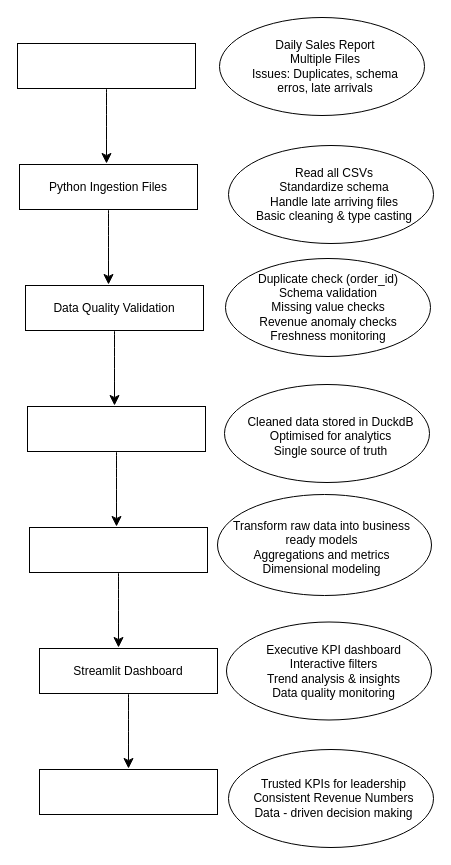
The diagram is 451 pixels wide and 865 high, and some of its shapes have lost their labels. The centre of each missing label's shape, as x and y in pixels:
DuckdB Warehouse: the point at 116,429
Executive Reporting: the point at 128,791
Raw CSV Files: the point at 106,65
SQL / DBT Models: the point at 118,549
